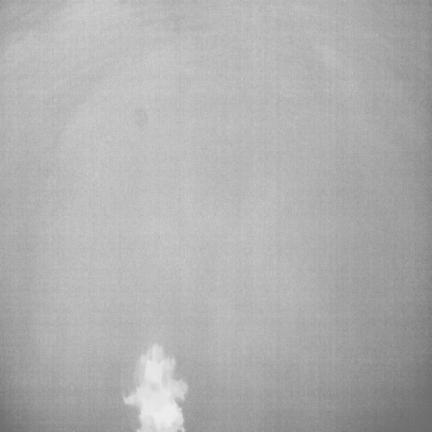flukeprints: (124, 344, 187, 431)
